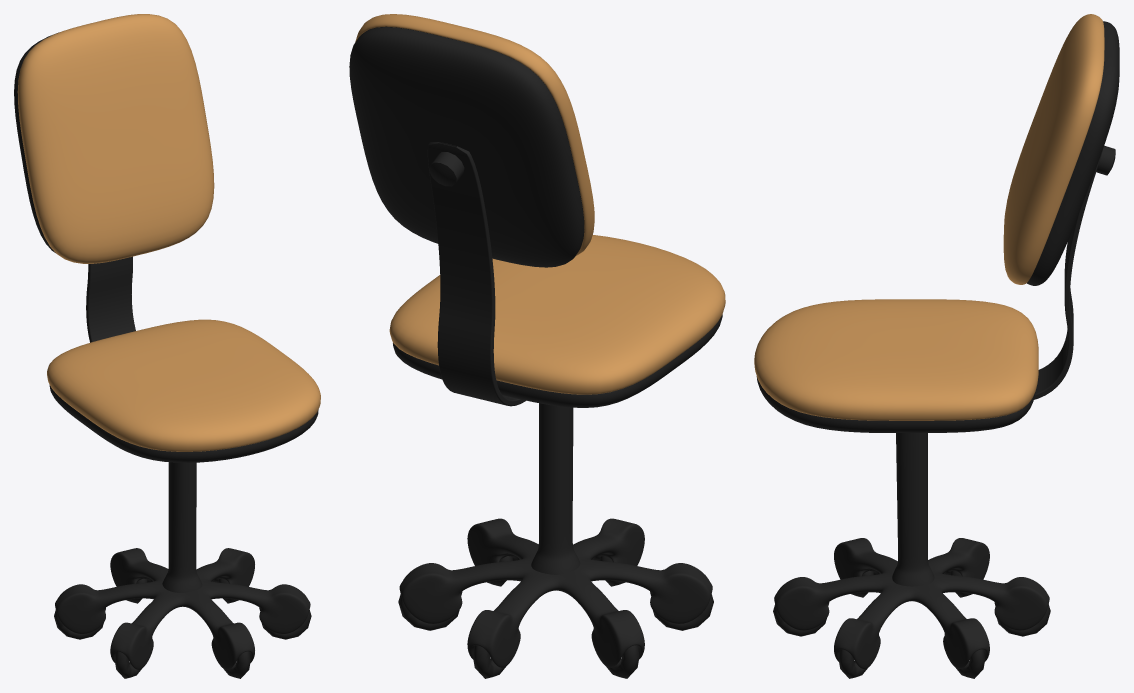
File: armchair.fbx
The picture shows the model from 3 angles, left to right: view 1: azimuth 30°, elevation 25°; view 2: azimuth 150°, elevation 25°; view 3: azimuth 270°, elevation 25°; orthographic projection. The views are drawn at different scales.
Visible parts, largest first — view 1: Cube, Cube_2, Cylinder, Sweep; view 2: Cube, Cube_2, Cylinder, Sweep, Oil_Tank, Torus_1, Torus_6; view 3: Cube_2, Cube, Cylinder, Sweep.
Boxes of the visible parts, left/top/right/bottom form: Cube: left=14, top=14, right=214, bottom=263; Cube_2: left=47, top=319, right=320, bottom=592; Cylinder: left=55, top=548, right=310, bottom=669; Sweep: left=86, top=256, right=135, bottom=342; Cube: left=349, top=14, right=594, bottom=267; Cube_2: left=389, top=235, right=725, bottom=574; Cylinder: left=399, top=518, right=712, bottom=667; Sweep: left=427, top=142, right=525, bottom=406; Oil_Tank: left=429, top=152, right=464, bottom=186; Torus_1: left=606, top=645, right=639, bottom=678; Torus_6: left=473, top=645, right=506, bottom=678; Cube_2: left=754, top=299, right=1038, bottom=586; Cube: left=1003, top=14, right=1119, bottom=285; Cylinder: left=774, top=538, right=1049, bottom=668; Sweep: left=1034, top=151, right=1102, bottom=399.
Size of the model in its own units: 199 by 518 by 287.
